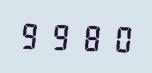eight: (74, 19, 101, 53)
nine: (46, 18, 73, 52), (18, 18, 45, 51)
zero: (102, 20, 129, 54)
